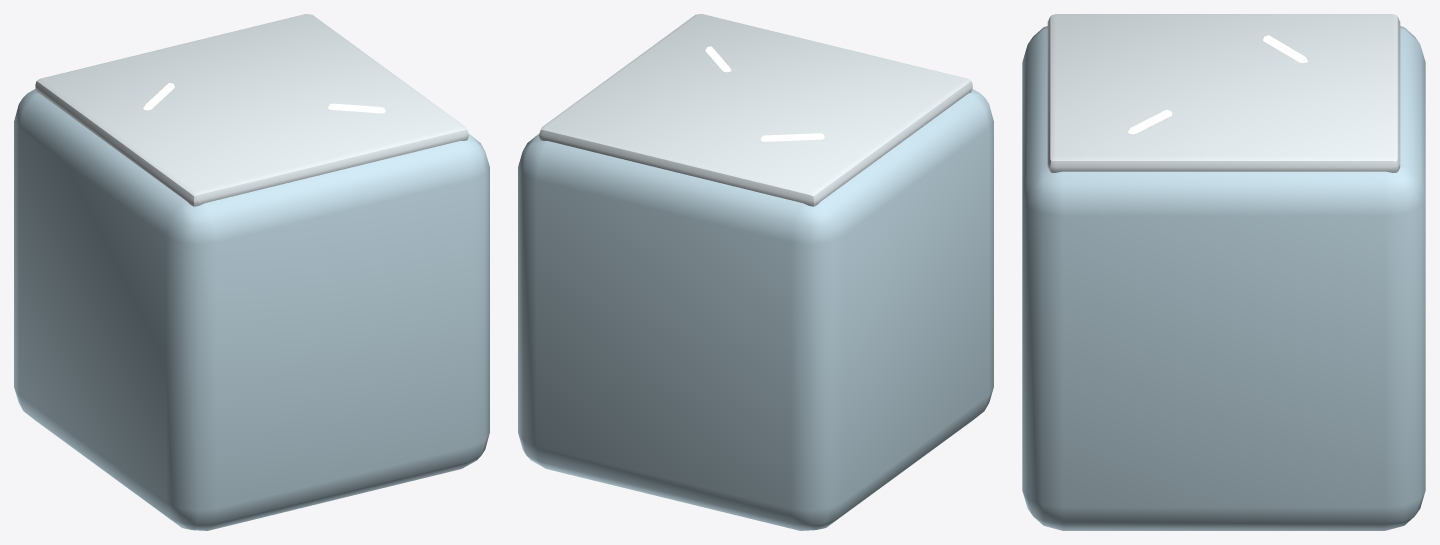
Rendered from ice_cell.glb.
3 views of the same model, side by side, from view 1: azimuth 30°, elevation 25°; view 2: azimuth 150°, elevation 25°; view 3: azimuth 270°, elevation 25° (orthographic). The views are drawn at different scales.
Visible parts, largest first — view 1: IceCell; view 2: IceCell; view 3: IceCell.
Boxes of the visible parts, x1,y1,x2,y2 form: IceCell: (14,14,489,530); IceCell: (518,14,993,530); IceCell: (1022,14,1425,530).
Size of the model in its own units: 0.985 by 1.02 by 0.985.
